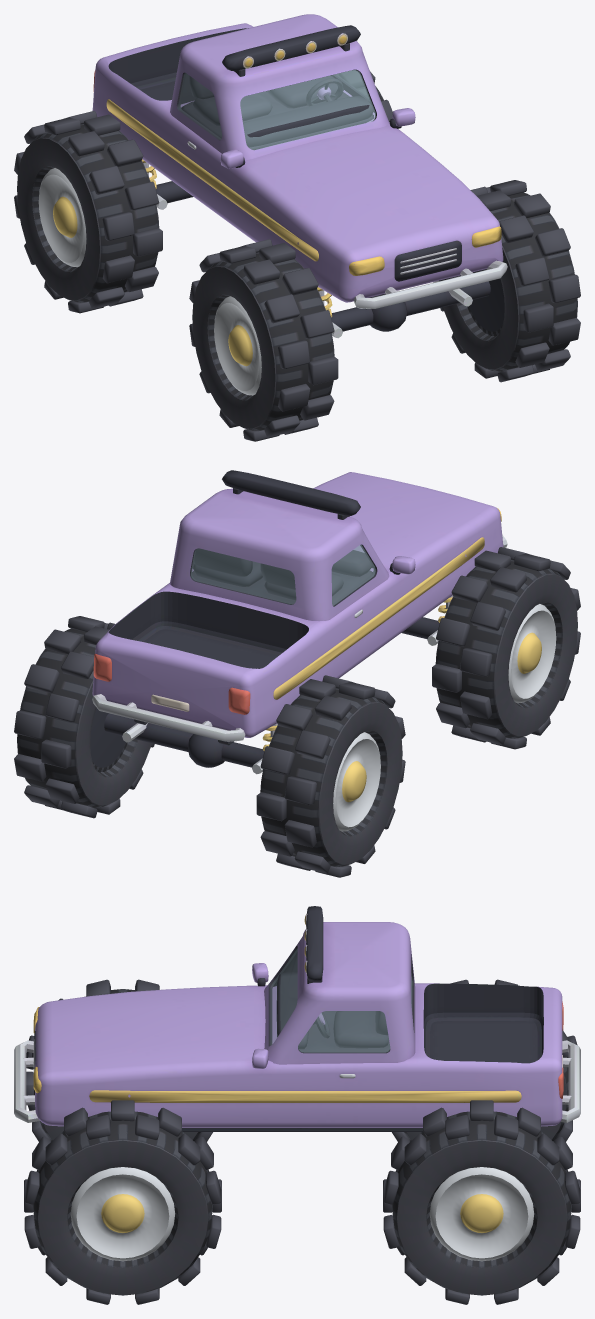
Rendered from monster-truck.glb.
The picture shows the model from 3 angles, top to bottom: view 1: azimuth 30°, elevation 25°; view 2: azimuth 150°, elevation 25°; view 3: azimuth 270°, elevation 25°; orthographic projection. The views are drawn at different scales.
Visible parts, largest first — view 1: monster-truck_body, monster-truck_wheel_fr, monster-truck_wheel_rr, monster-truck_wheel_fl, monster-truck_windows, monster-truck_wheel_rl; view 2: monster-truck_body, monster-truck_wheel_rr, monster-truck_wheel_fr, monster-truck_wheel_rl, monster-truck_windows; view 3: monster-truck_body, monster-truck_wheel_rl, monster-truck_wheel_fl, monster-truck_windows, monster-truck_wheel_fr, monster-truck_wheel_rr.
Part boxes in pixels (x1,y1,x2,y2): monster-truck_body: (92,14,507,338); monster-truck_wheel_fr: (189,239,338,441); monster-truck_wheel_rr: (14,111,162,313); monster-truck_wheel_fl: (440,180,580,382); monster-truck_windows: (178,70,375,149); monster-truck_wheel_rl: (337,70,392,121); monster-truck_body: (92,470,507,774); monster-truck_wheel_rr: (256,675,405,877); monster-truck_wheel_fr: (432,547,580,749); monster-truck_wheel_rl: (14,616,154,818); monster-truck_windows: (191,545,375,605); monster-truck_body: (14,906,580,1131); monster-truck_wheel_rl: (383,1100,580,1304); monster-truck_wheel_fl: (24,1100,221,1304); monster-truck_windows: (270,949,411,1052); monster-truck_wheel_fr: (26,979,212,1141); monster-truck_wheel_rr: (392,979,577,1141).
Size of the model in its own units: 2.92 by 2.63 by 4.58.
Materials: 18 (5 with a texture image).
